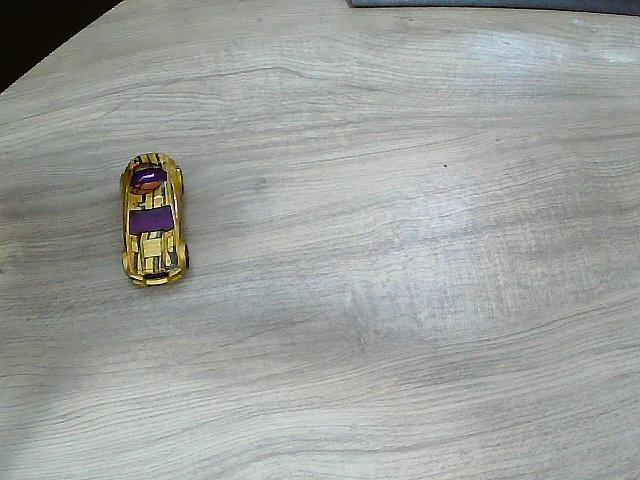Carro: (121, 154, 188, 288)
